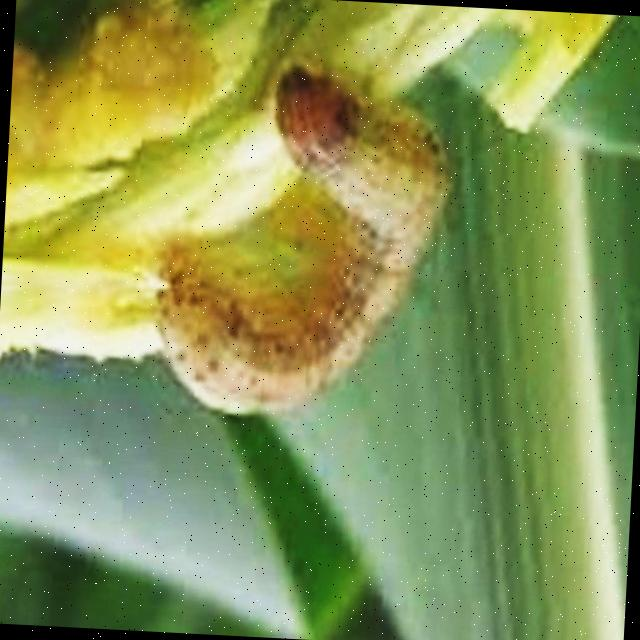worm: (147, 58, 460, 430)
